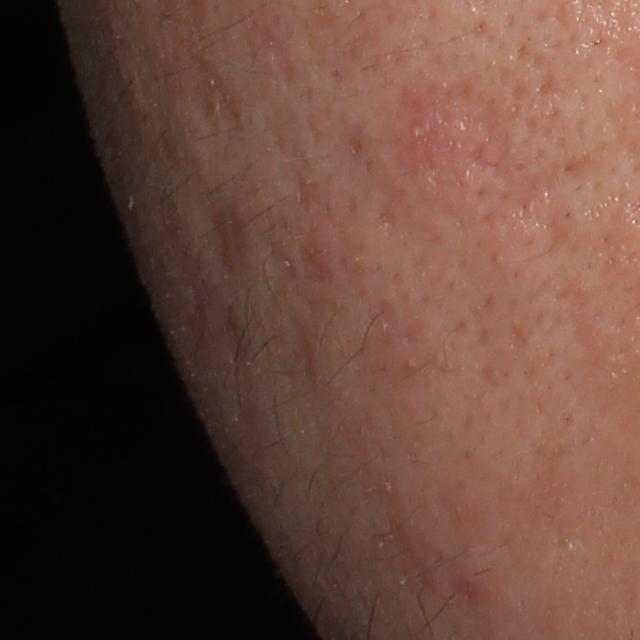atrophic_scar: (520, 204, 576, 252), (191, 65, 236, 124), (213, 200, 250, 269), (290, 324, 324, 391)
